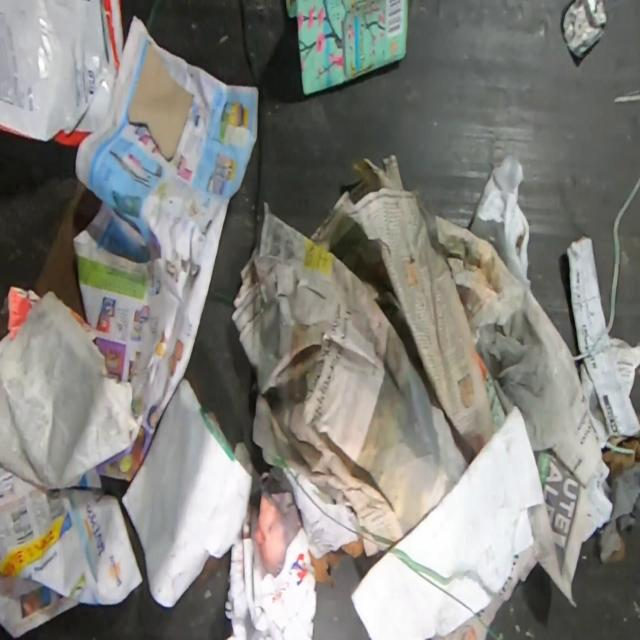cardboard: (284, 0, 408, 97), (128, 42, 195, 161)
soft_plastic: (0, 0, 124, 143)
